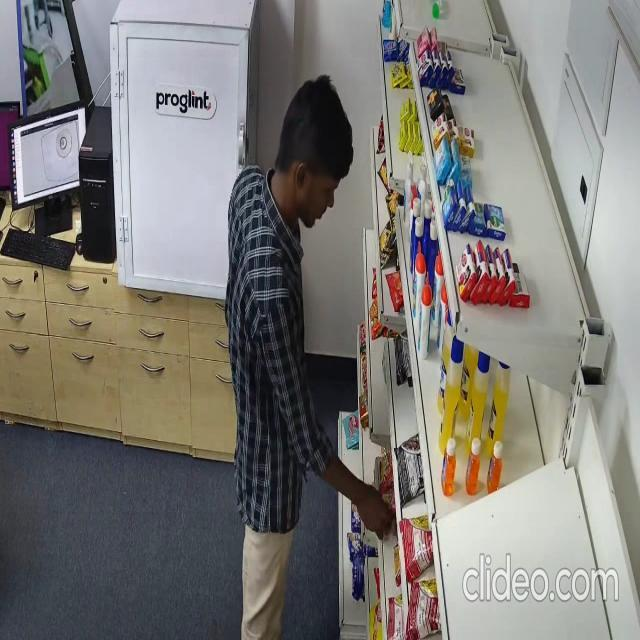normal: (226, 73, 396, 640)
